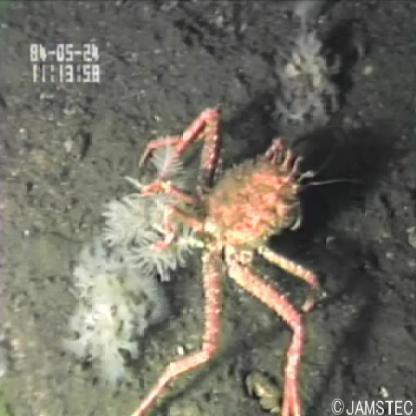Bio: (96, 100, 323, 415)
